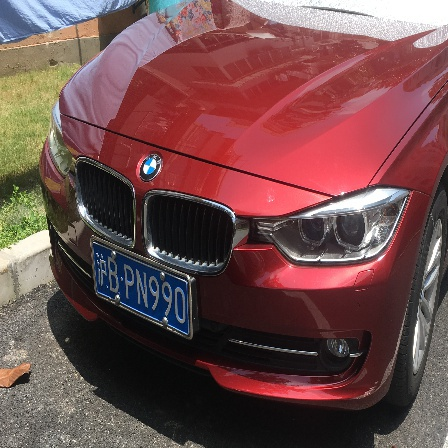plate: (87, 231, 196, 343)
